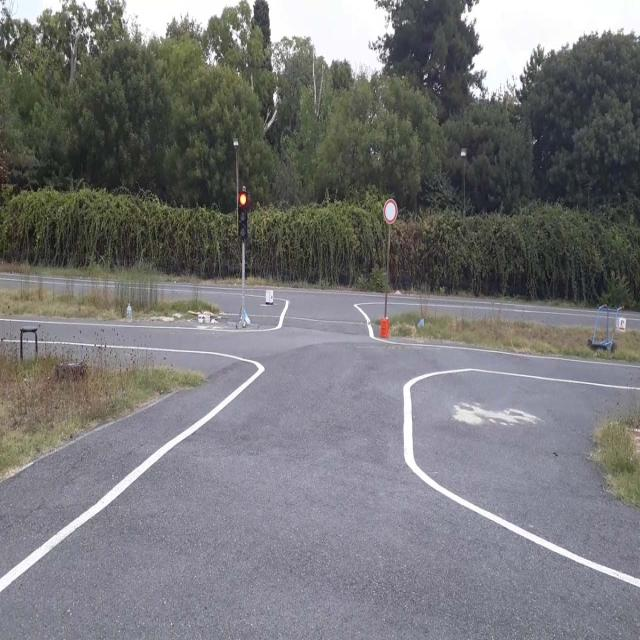kirmizi: (238, 192, 247, 238)
